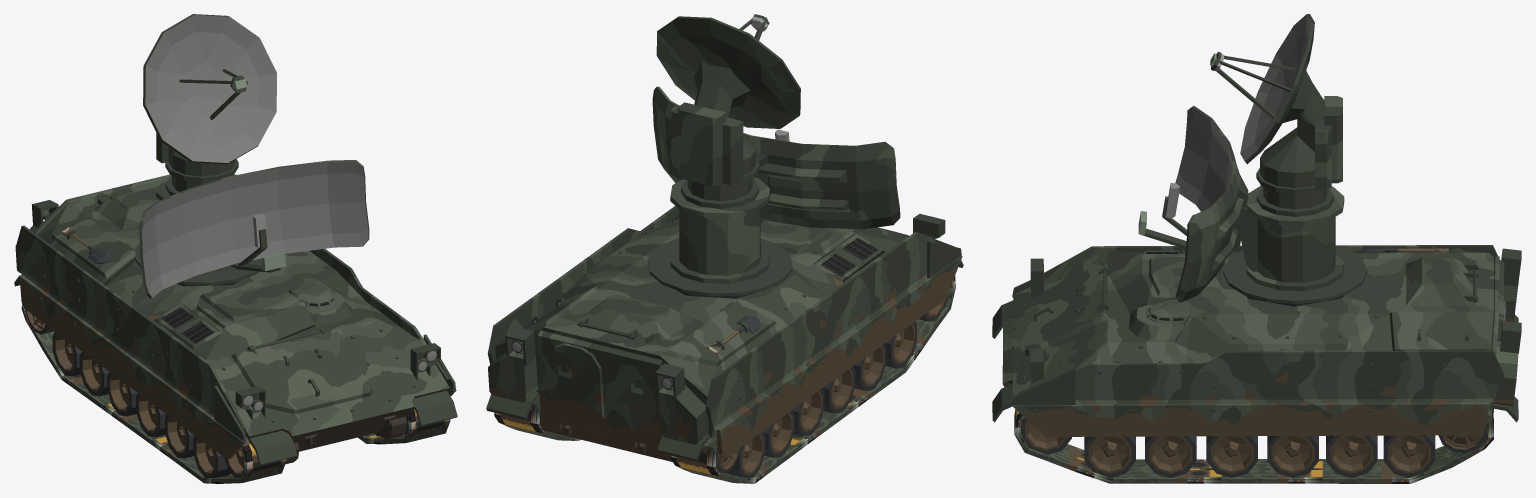
Rendered from SM_Veh_Radar_Tank_01.fbx.
3 views of the same model, side by side, from view 1: azimuth 30°, elevation 25°; view 2: azimuth 150°, elevation 25°; view 3: azimuth 270°, elevation 25° (orthographic). The views are drawn at different scales.
Visible parts, largest first — view 1: SM_Veh_Radar_Tank_01, SM_Veh_Radar_Tank_01_Bottom_Dish, SM_Veh_Radar_Tank_01_Top_Dish, SM_Veh_Radar_Tank_01_Track_R, SM_Veh_Radar_Tank_01_Track_L; view 2: SM_Veh_Radar_Tank_01, SM_Veh_Radar_Tank_01_Top_Dish, SM_Veh_Radar_Tank_01_Bottom_Dish, SM_Veh_Radar_Tank_01_Radar_Base, SM_Veh_Radar_Tank_01_Track_R, SM_Veh_Radar_Tank_01_Track_L; view 3: SM_Veh_Radar_Tank_01, SM_Veh_Radar_Tank_01_Top_Dish, SM_Veh_Radar_Tank_01_Bottom_Dish, SM_Veh_Radar_Tank_01_Radar_Base, SM_Veh_Radar_Tank_01_Track_L.
Part boxes in pixels (bbox=[...]): SM_Veh_Radar_Tank_01: bbox=[14, 175, 457, 478]; SM_Veh_Radar_Tank_01_Bottom_Dish: bbox=[139, 160, 369, 298]; SM_Veh_Radar_Tank_01_Top_Dish: bbox=[143, 14, 276, 195]; SM_Veh_Radar_Tank_01_Track_R: bbox=[21, 303, 286, 483]; SM_Veh_Radar_Tank_01_Track_L: bbox=[358, 409, 450, 444]; SM_Veh_Radar_Tank_01: bbox=[486, 205, 963, 477]; SM_Veh_Radar_Tank_01_Top_Dish: bbox=[656, 14, 800, 208]; SM_Veh_Radar_Tank_01_Bottom_Dish: bbox=[652, 86, 900, 229]; SM_Veh_Radar_Tank_01_Radar_Base: bbox=[670, 177, 769, 283]; SM_Veh_Radar_Tank_01_Track_R: bbox=[670, 276, 955, 483]; SM_Veh_Radar_Tank_01_Track_L: bbox=[494, 396, 580, 440]; SM_Veh_Radar_Tank_01: bbox=[992, 245, 1521, 477]; SM_Veh_Radar_Tank_01_Top_Dish: bbox=[1210, 14, 1342, 216]; SM_Veh_Radar_Tank_01_Bottom_Dish: bbox=[1138, 106, 1248, 302]; SM_Veh_Radar_Tank_01_Radar_Base: bbox=[1239, 186, 1344, 290]; SM_Veh_Radar_Tank_01_Track_L: bbox=[1014, 408, 1493, 483].
Size of the model in its own units: 361 by 554 by 660.
